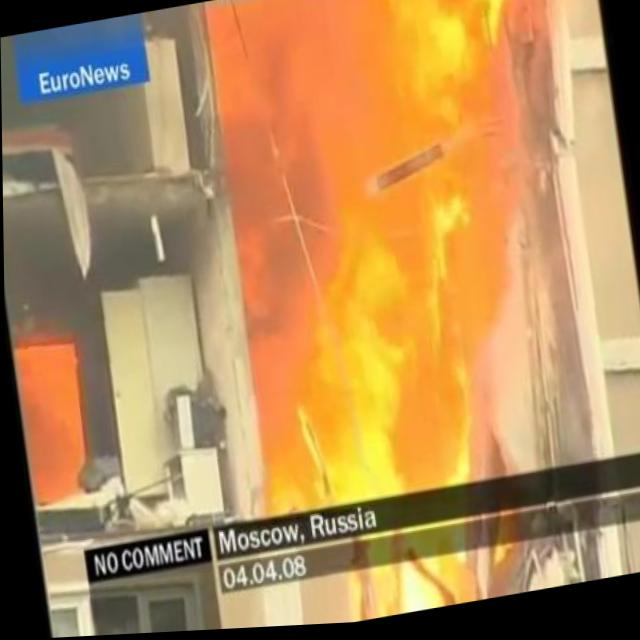fire: (201, 0, 627, 523), (11, 331, 93, 512)
